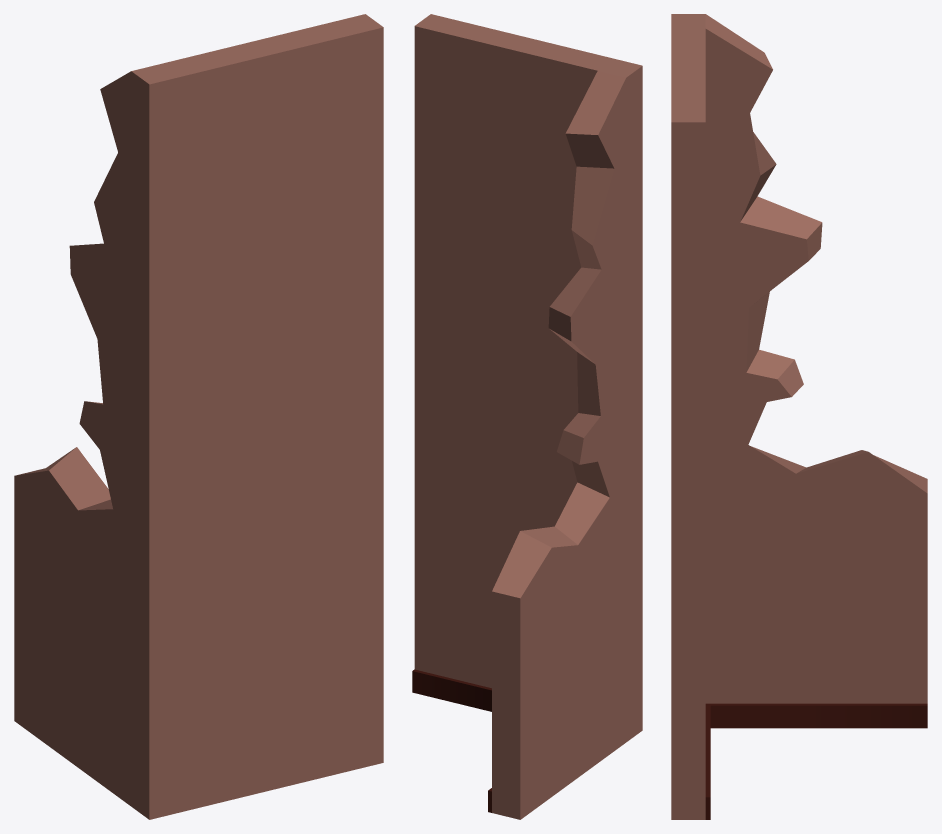
The model's file is T_AngleExtDétruit.fbx.
3 renders of one model, left to right at view 1: azimuth 30°, elevation 25°; view 2: azimuth 150°, elevation 25°; view 3: azimuth 270°, elevation 25°, orthographic. The views are drawn at different scales.
Visible parts, largest first — view 1: T_AngleExtDétruit; view 2: T_AngleExtDétruit; view 3: T_AngleExtDétruit.
Boxes of the visible parts, left/top/right/bottom form: T_AngleExtDétruit: left=14, top=14, right=383, bottom=819; T_AngleExtDétruit: left=412, top=14, right=642, bottom=819; T_AngleExtDétruit: left=671, top=14, right=927, bottom=819.
Size of the model in its own units: 100 by 300 by 100.
